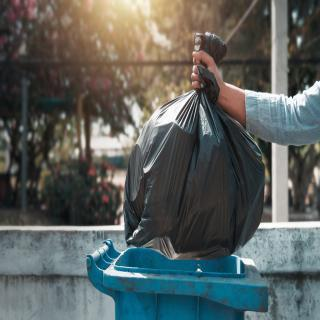Garbage: (120, 15, 271, 263)
